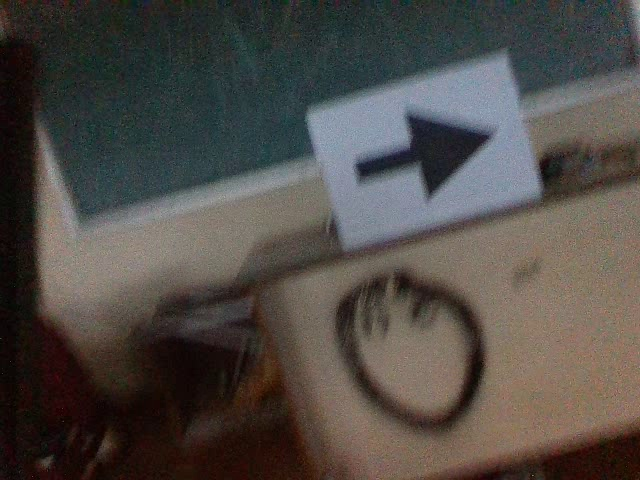Right: (344, 107, 499, 208)
